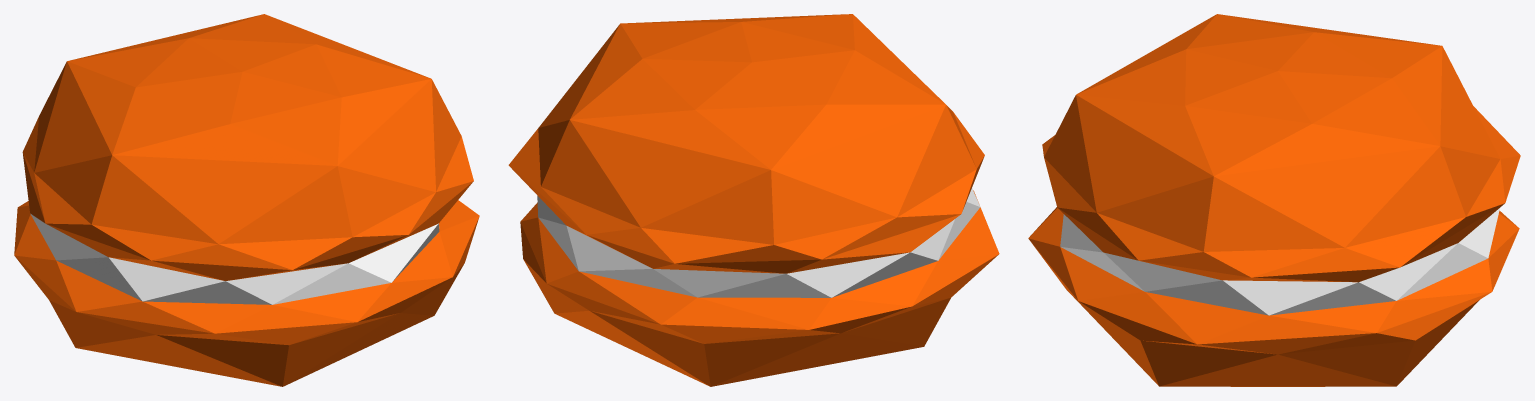
Rendered from macaron_orange.fbx.
3 views of the same model, side by side, from view 1: azimuth 30°, elevation 25°; view 2: azimuth 150°, elevation 25°; view 3: azimuth 270°, elevation 25° (orthographic). The views are drawn at different scales.
Parts seen in each view (by area): view 1: macaronorange; view 2: macaronorange; view 3: macaronorange.
Boxes of the visible parts, left/top/right/bottom form: macaronorange: left=14, top=14, right=479, bottom=386; macaronorange: left=508, top=14, right=999, bottom=386; macaronorange: left=1028, top=14, right=1520, bottom=386.
Bounding box in the file's own units: 4.97 × 3.07 × 5.02.
